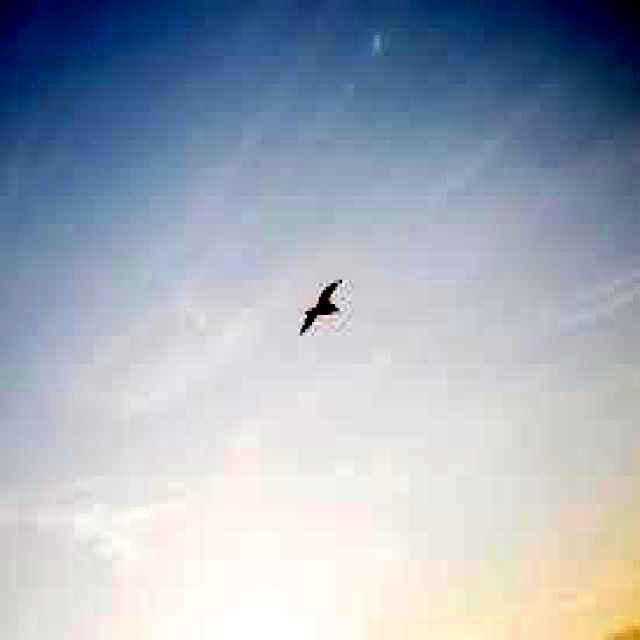bird: (293, 277, 346, 334)
